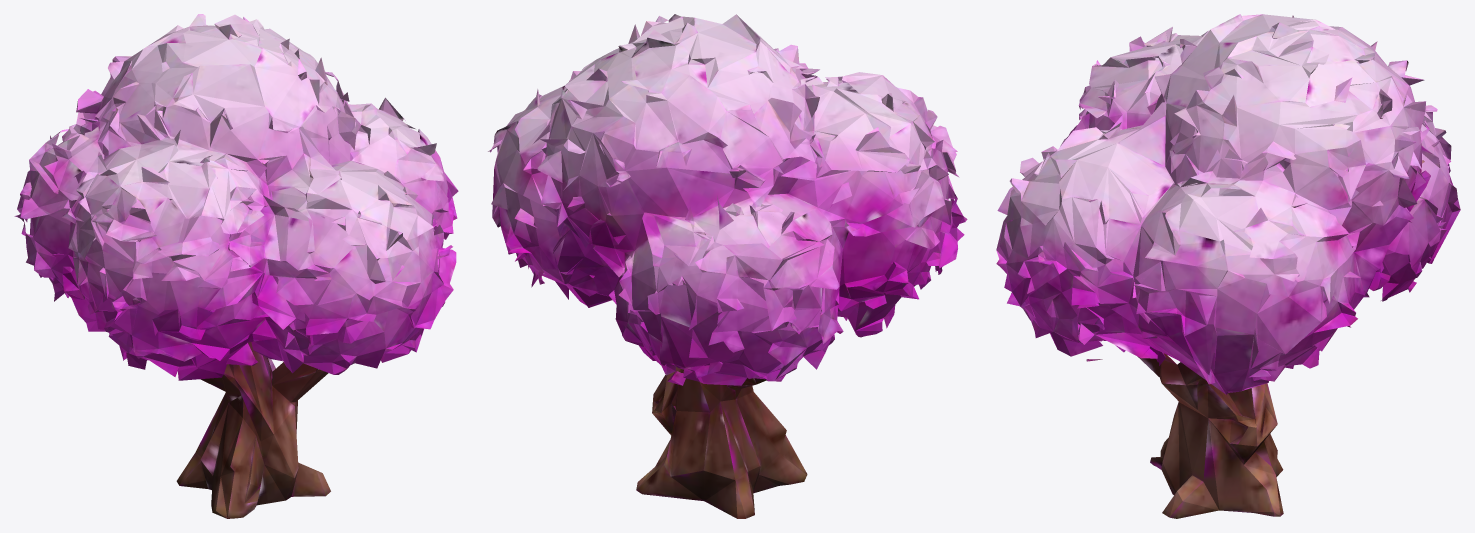
The model's file is blossom.glb.
The picture shows the model from 3 angles, left to right: view 1: azimuth 30°, elevation 25°; view 2: azimuth 150°, elevation 25°; view 3: azimuth 270°, elevation 25°; orthographic projection. The views are drawn at different scales.
Parts seen in each view (by area): view 1: geometry_0; view 2: geometry_0; view 3: geometry_0.
Part boxes in pixels (x1,y1,x2,y2): geometry_0: [14, 14, 458, 518]; geometry_0: [488, 14, 967, 518]; geometry_0: [996, 14, 1460, 518].
Bounding box in the file's own units: 0.8949 × 0.9826 × 0.8756.
Materials: 1 (1 with a texture image).
